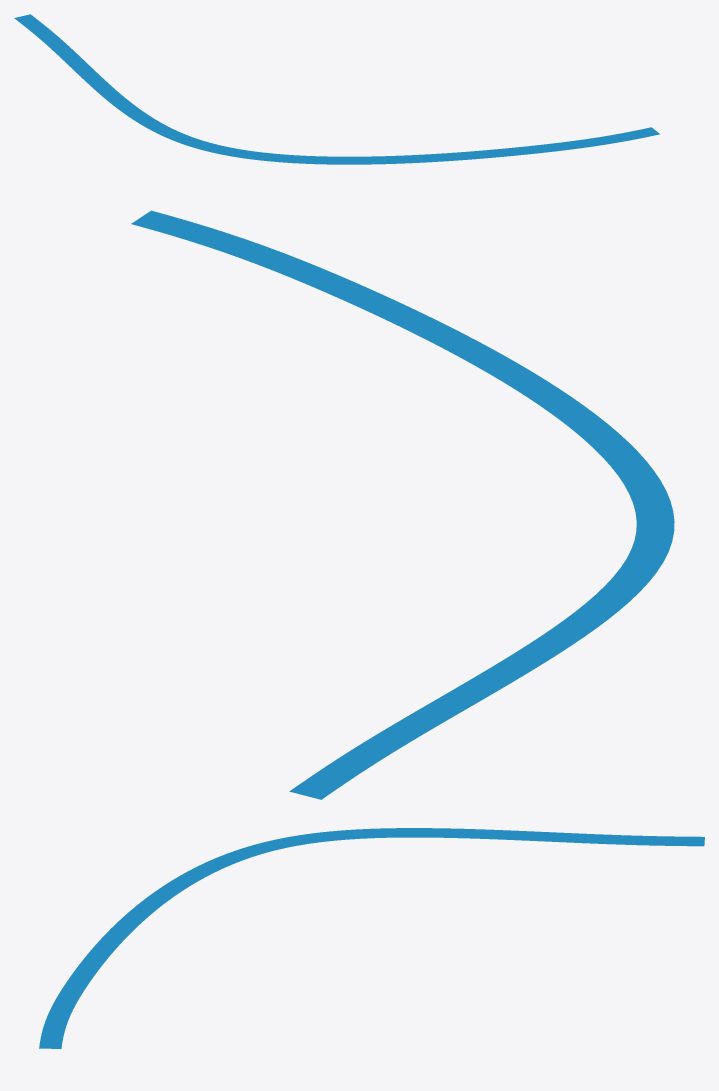
File: guide.glb
The picture shows the model from 3 angles, top to bottom: view 1: azimuth 30°, elevation 25°; view 2: azimuth 150°, elevation 25°; view 3: azimuth 270°, elevation 25°; orthographic projection. The views are drawn at different scales.
Parts seen in each view (by area): view 1: static; view 2: static; view 3: static.
Part boxes in pixels (left/top/right/bottom): static: left=14, top=14, right=659, bottom=164; static: left=131, top=210, right=674, bottom=799; static: left=39, top=828, right=704, bottom=1048.
Size of the model in its own units: 8.4 by 0 by 9.85.
